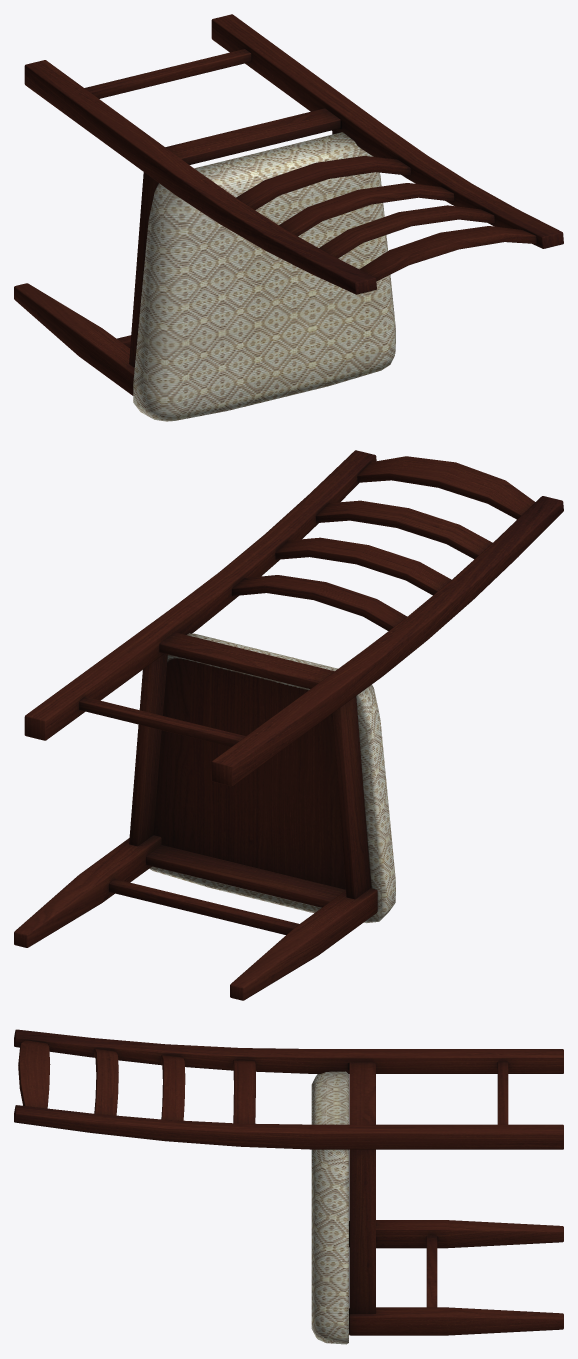
The model's file is chair.obj.
3 renders of one model, top to bottom at view 1: azimuth 30°, elevation 25°; view 2: azimuth 150°, elevation 25°; view 3: azimuth 270°, elevation 25°, orthographic. The views are drawn at different scales.
Visible parts, largest first — view 1: 10214_Armless_Dinner_Chair_v1; view 2: 10214_Armless_Dinner_Chair_v1; view 3: 10214_Armless_Dinner_Chair_v1.
Boxes of the visible parts, x1,y1,x2,y2 form: 10214_Armless_Dinner_Chair_v1: (14, 14, 563, 421); 10214_Armless_Dinner_Chair_v1: (14, 450, 563, 1000); 10214_Armless_Dinner_Chair_v1: (14, 1029, 563, 1344).
Size of the model in its own units: 44.11 by 48.94 by 100.
1 material, 1 textured.
